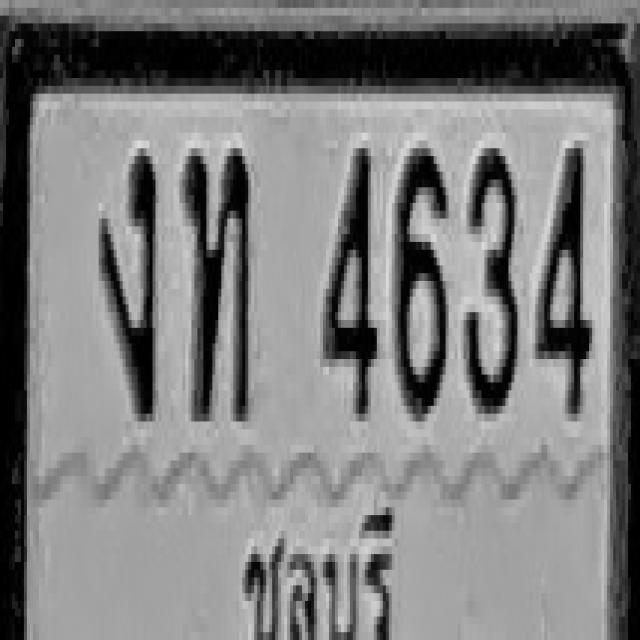16NgorNgu: (98, 148, 156, 414)
3: (463, 140, 518, 414)
32ThorThaHan: (184, 144, 250, 418)
4: (534, 140, 590, 414), (323, 140, 377, 414)
6: (393, 140, 447, 414)
Chonburi: (230, 491, 403, 640)
